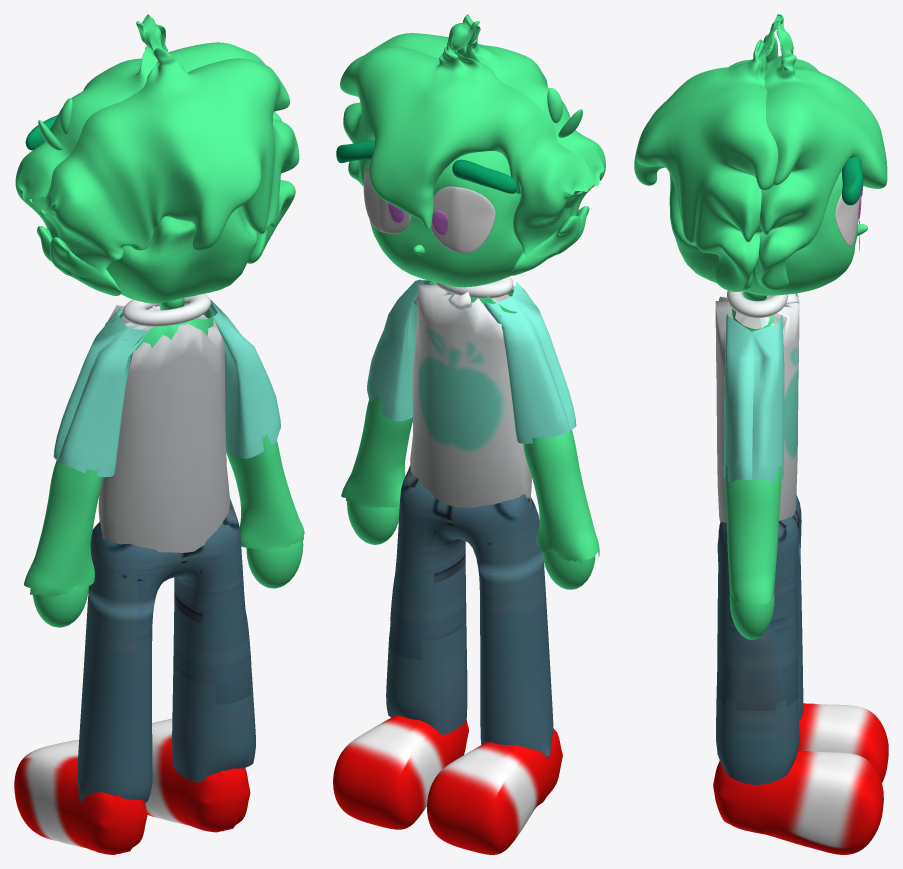
File: torajo_base.glb
The picture shows the model from 3 angles, left to right: view 1: azimuth 30°, elevation 25°; view 2: azimuth 150°, elevation 25°; view 3: azimuth 270°, elevation 25°; orthographic projection. The views are drawn at different scales.
Visible parts, largest first — view 1: MESH.001; view 2: MESH.001; view 3: MESH.001.
Boxes of the visible parts, bbox=[...] form: MESH.001: bbox=[14, 14, 304, 854]; MESH.001: bbox=[333, 14, 605, 854]; MESH.001: bbox=[634, 14, 888, 854].
Size of the model in its own units: 2.55 by 7.55 by 2.16.
Materials: 16 (4 with a texture image).
